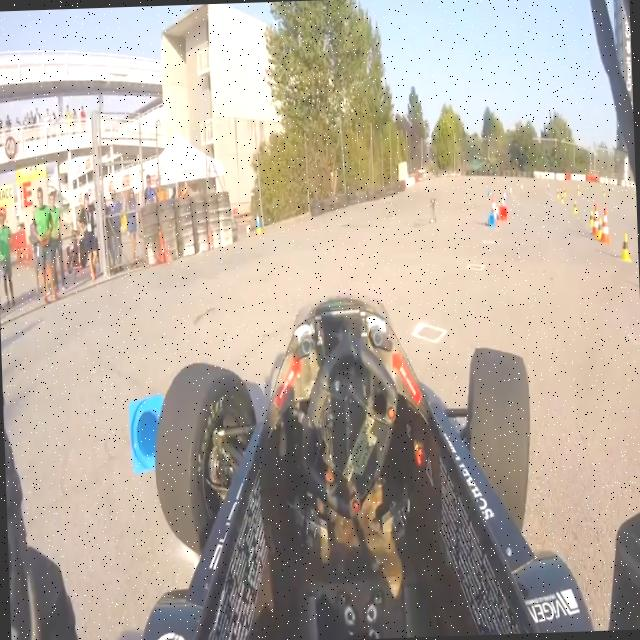blue_cone: (501, 188, 507, 203), (500, 195, 505, 212), (507, 182, 512, 198), (575, 184, 580, 195)
large_orange_cone: (599, 204, 610, 244), (590, 202, 600, 240), (490, 194, 498, 227)
yellow_cone: (616, 232, 632, 264), (596, 216, 604, 241), (588, 209, 595, 230), (570, 198, 578, 215), (554, 185, 560, 200), (560, 191, 565, 203), (562, 186, 566, 200)
